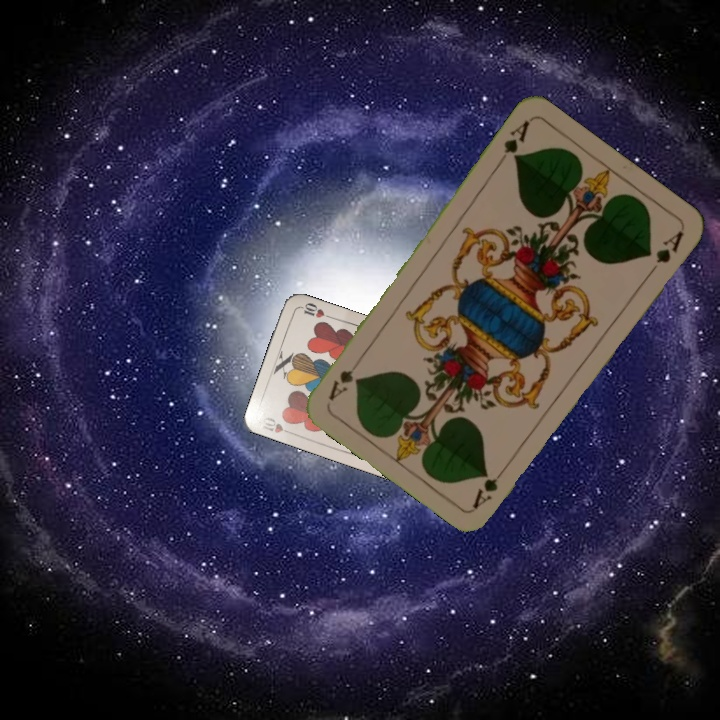GA: (493, 116, 533, 169), (469, 460, 510, 511)
H10: (256, 413, 296, 438)
